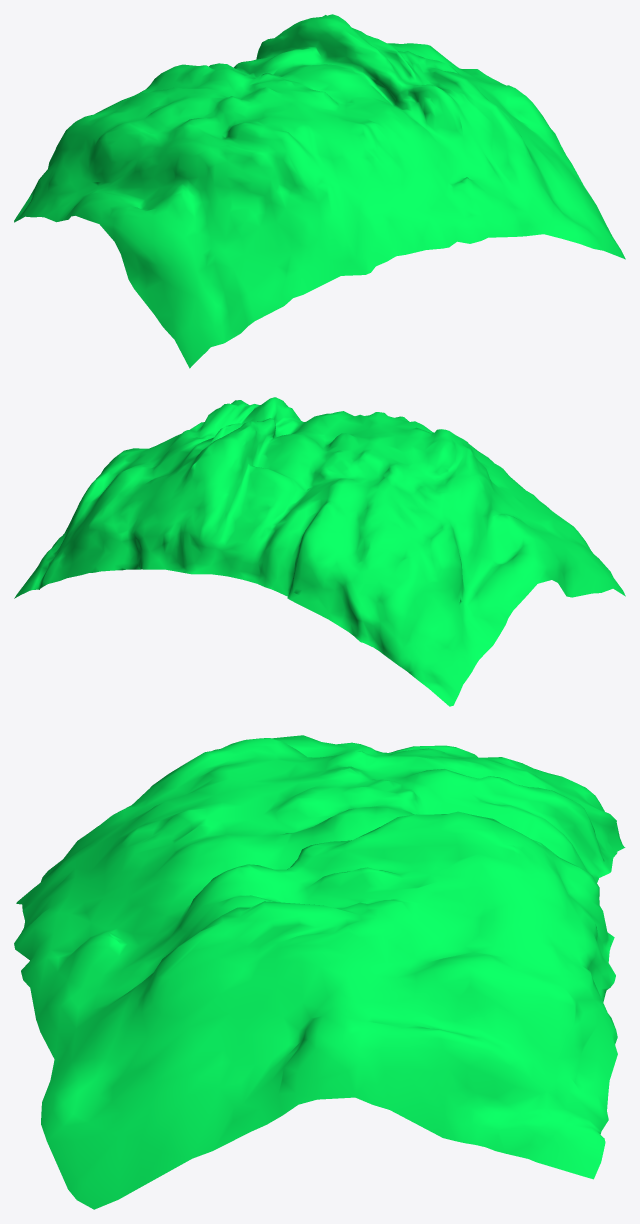
The model's file is Side_Island_01.fbx.
3 renders of one model, top to bottom at view 1: azimuth 30°, elevation 25°; view 2: azimuth 150°, elevation 25°; view 3: azimuth 270°, elevation 25°, orthographic. The views are drawn at different scales.
Parts seen in each view (by area): view 1: Side_Rock_001; view 2: Side_Rock_001; view 3: Side_Rock_001.
Part boxes in pixels (bbox=[...]): Side_Rock_001: bbox=[14, 14, 625, 368]; Side_Rock_001: bbox=[14, 397, 625, 706]; Side_Rock_001: bbox=[14, 735, 625, 1209].
Size of the model in its own units: 3159 by 2604 by 1296.
